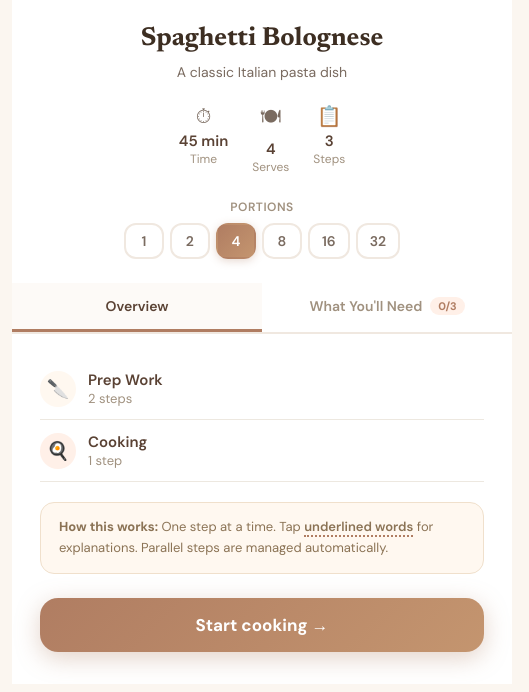
Test: RecipeIntro › shows checkmark badge when all items are checked
The image size is (529, 692).
Click the button "What You'll Need 0/3" at (387, 308), box [262,283,512,332]
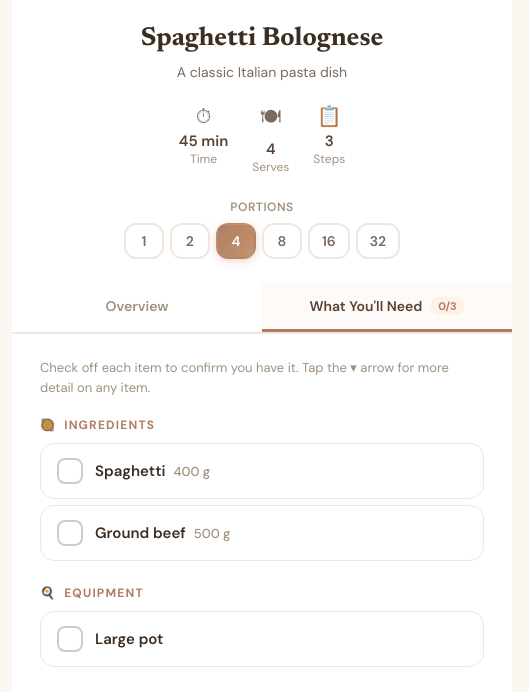
Click the text "Spaghetti" at (130, 471), box [95,461,165,481]
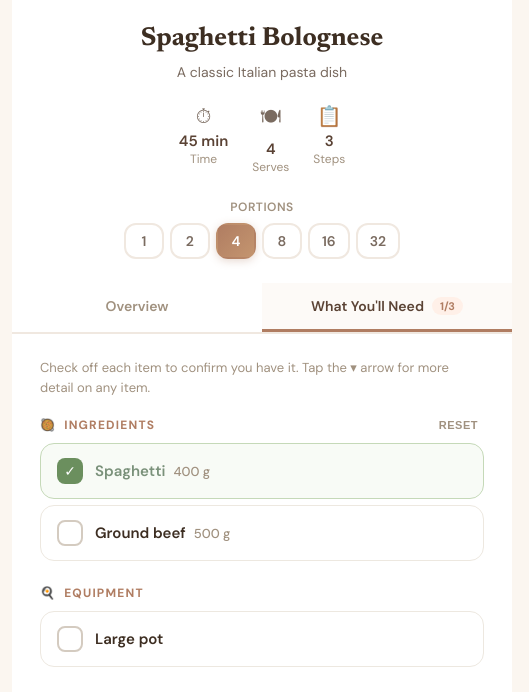
Click the text "Ground beef" at (140, 533), box [95,523,186,543]
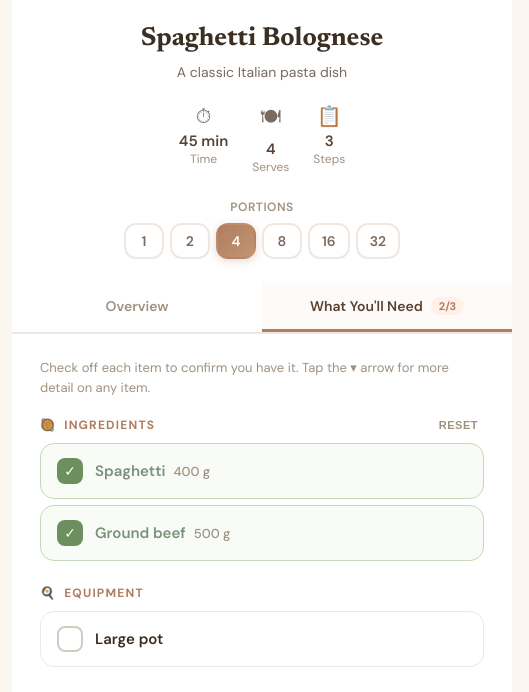
Click the text "Large pot" at (129, 639), box [95,629,163,649]
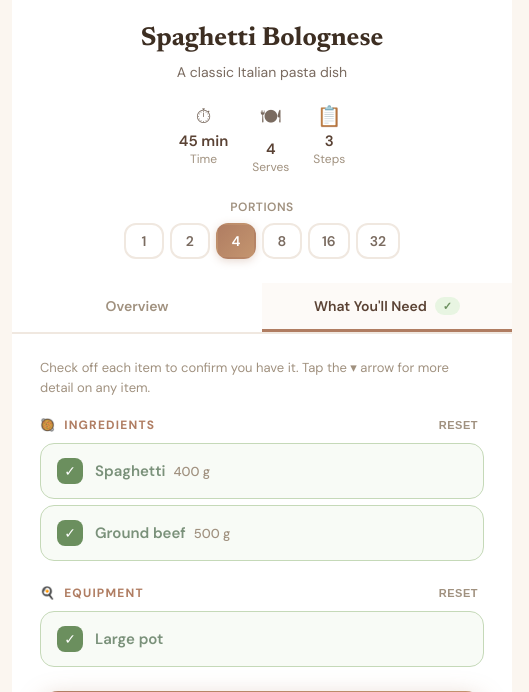
Now the 1st text "✓" is shown, box [435,297,460,315]
